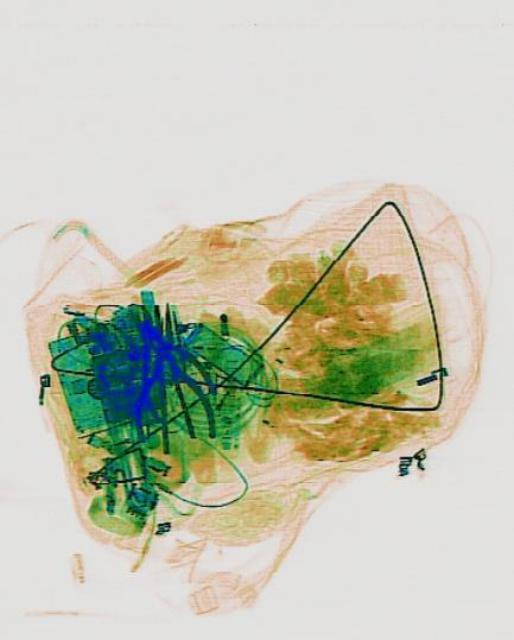Pliers: (105, 288, 214, 427), (122, 297, 213, 447)
